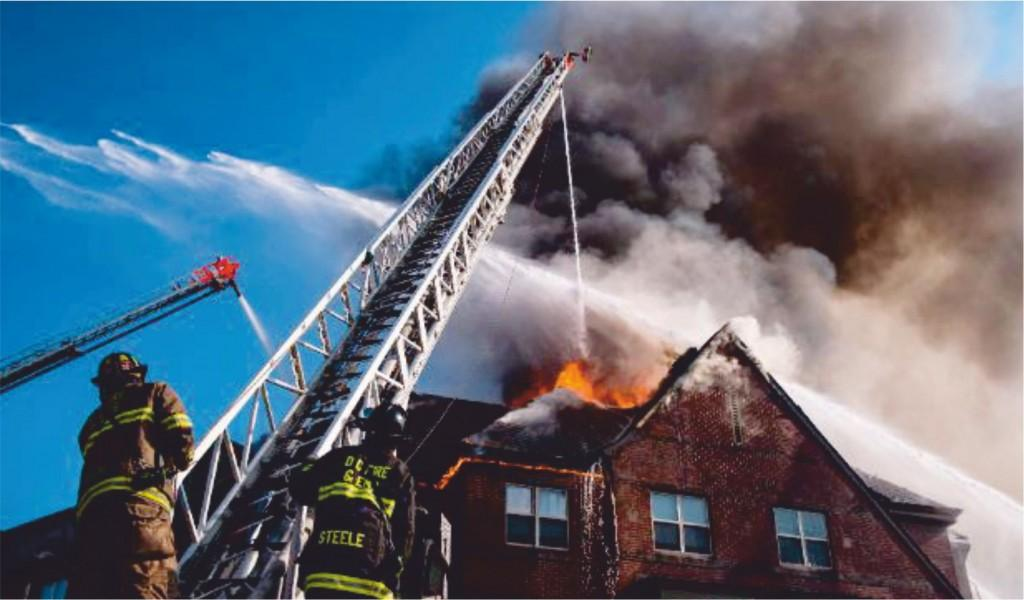Fire: (504, 281, 681, 483)
